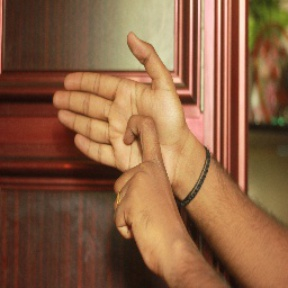R: (55, 30, 191, 231)
